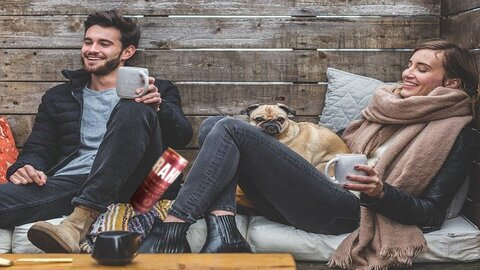duplo_malte: (119, 147, 188, 216)
